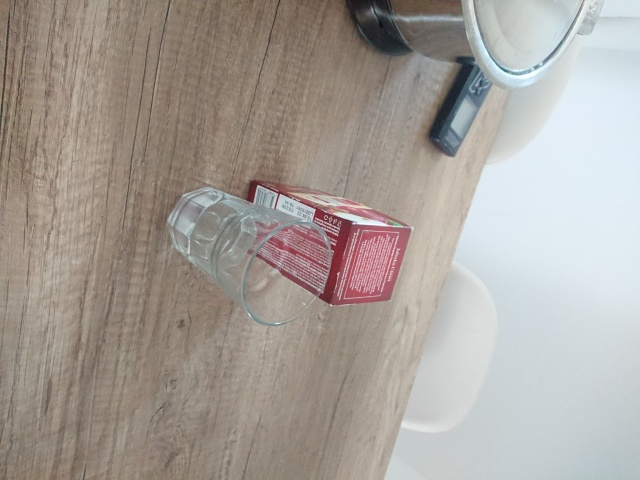Franck Apple Cinnamon Tea 60g: (236, 177, 415, 307)
